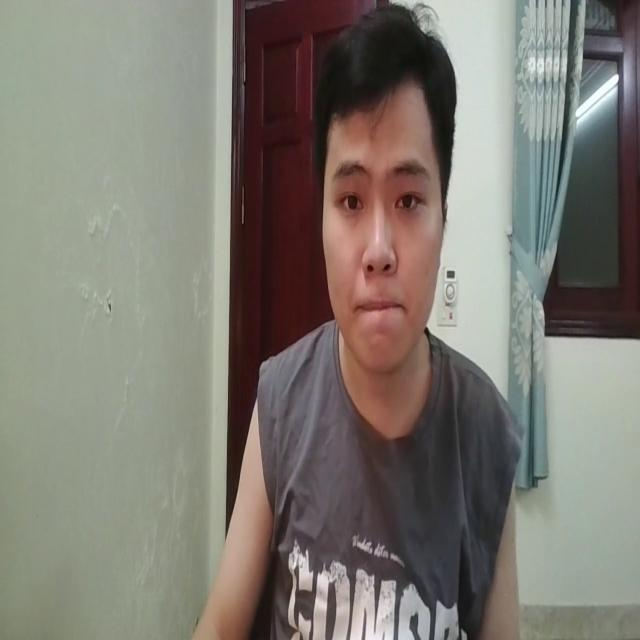student: (193, 1, 521, 640)
